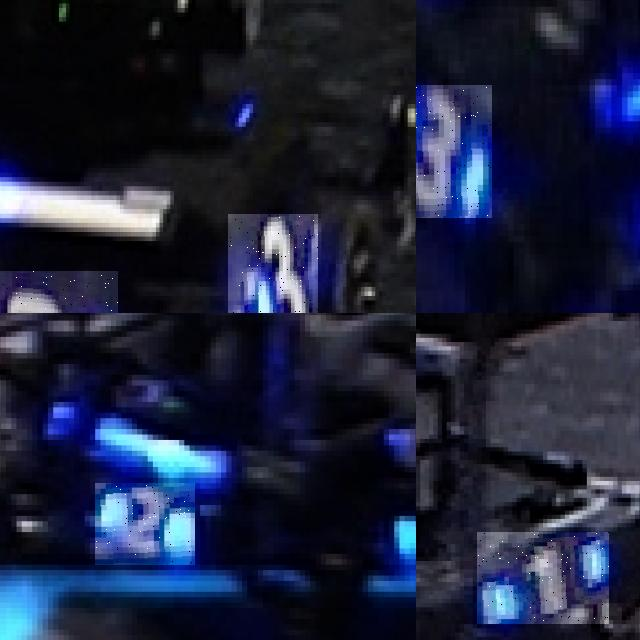B1: (477, 532, 609, 624)
B2: (95, 483, 195, 565)
B3: (416, 85, 491, 218), (228, 213, 318, 313), (0, 270, 118, 313)
